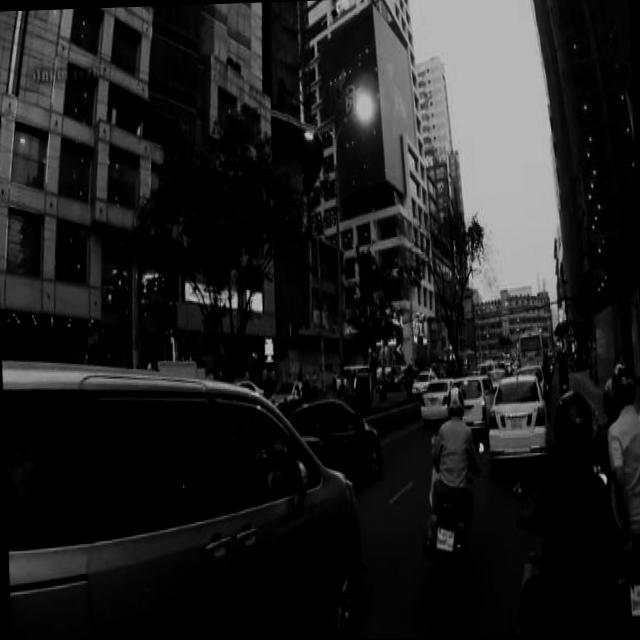bus: (518, 325, 550, 362)
car: (282, 390, 383, 482), (486, 370, 551, 461), (450, 369, 496, 428), (419, 374, 456, 418), (272, 373, 306, 404), (516, 360, 548, 390), (412, 366, 440, 389), (386, 362, 406, 383)
motorcycle: (421, 435, 492, 599), (594, 431, 640, 625), (512, 475, 552, 581)
truck: (3, 346, 368, 640), (338, 361, 373, 386)
